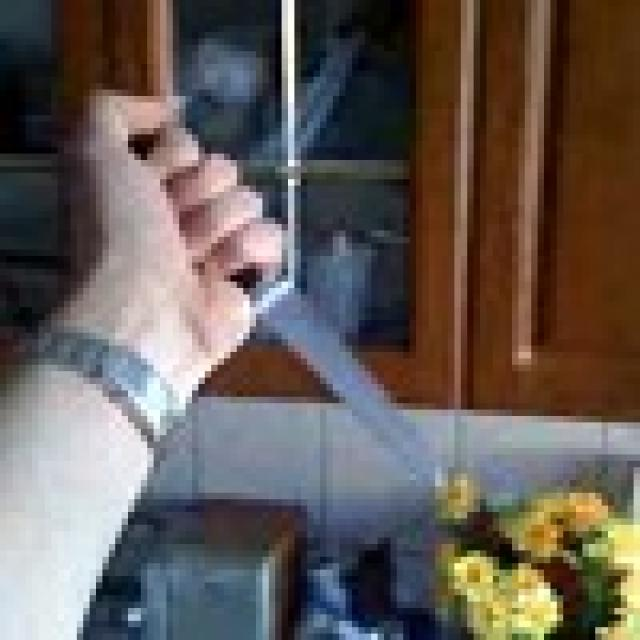Weapons: (214, 230, 452, 493)
